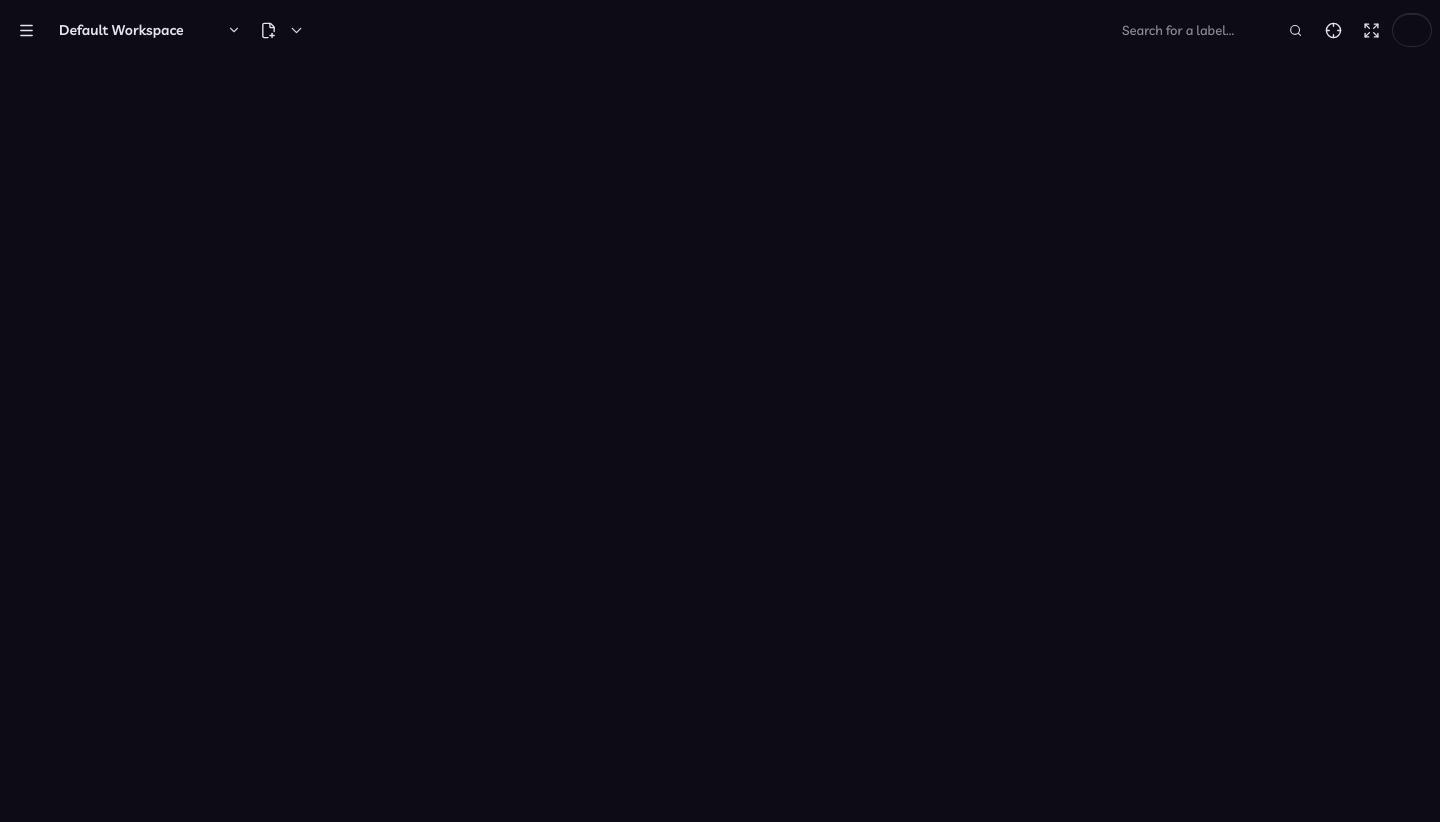
Test: TopBar › closes Add Card quick menu when clicking outside
Note: Open quick menu
Click the button named "add card".
click(283, 30)  # box [256,12,310,48]
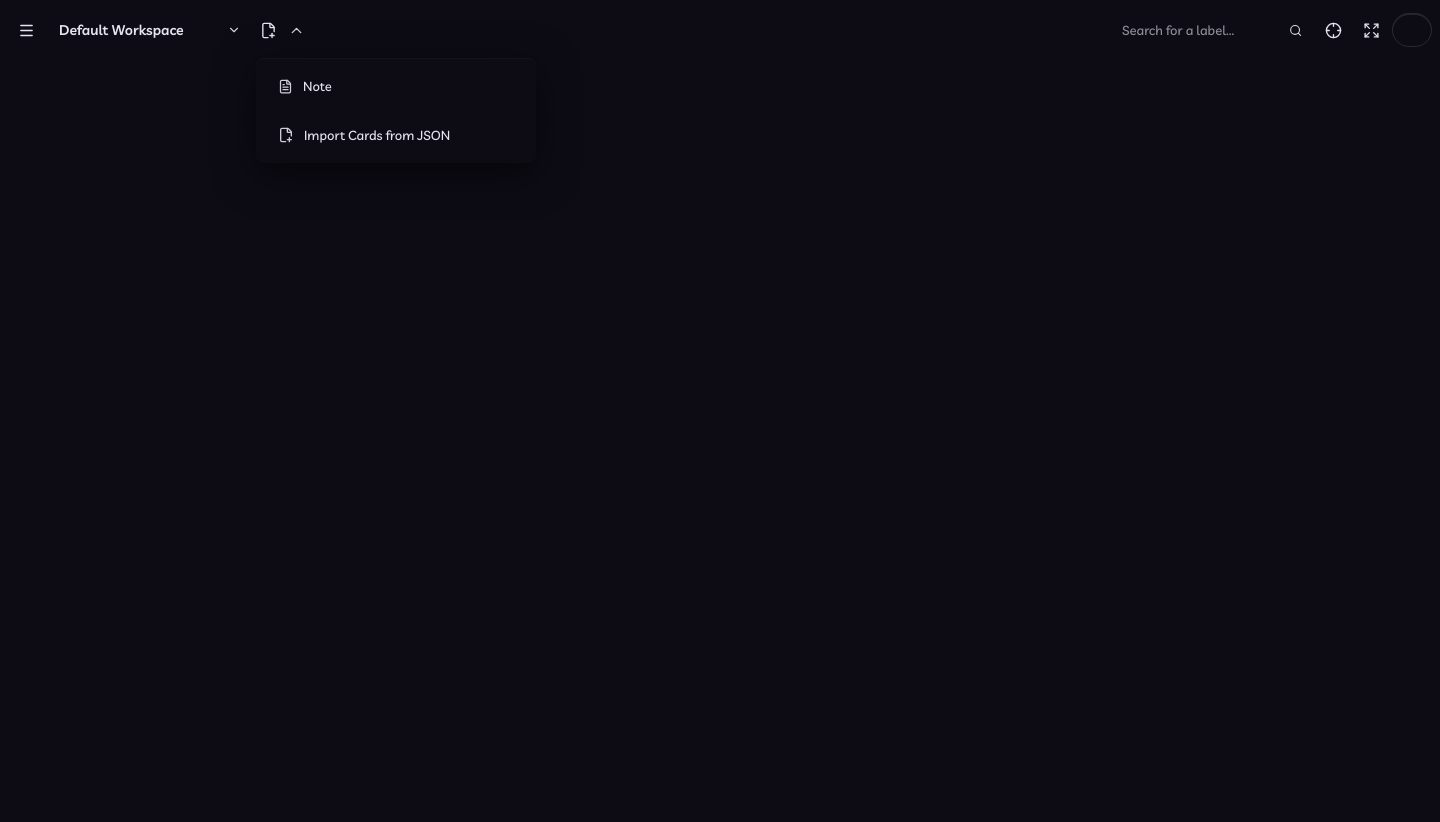
Expected: the menu named "add card menu" is shown, [256,58,536,163]
Note: Click outside on the document body
Press the mouse on the element showing "Default Workspace Note Import Cards from JSON" at point(720, 417), box [0,12,1439,821]
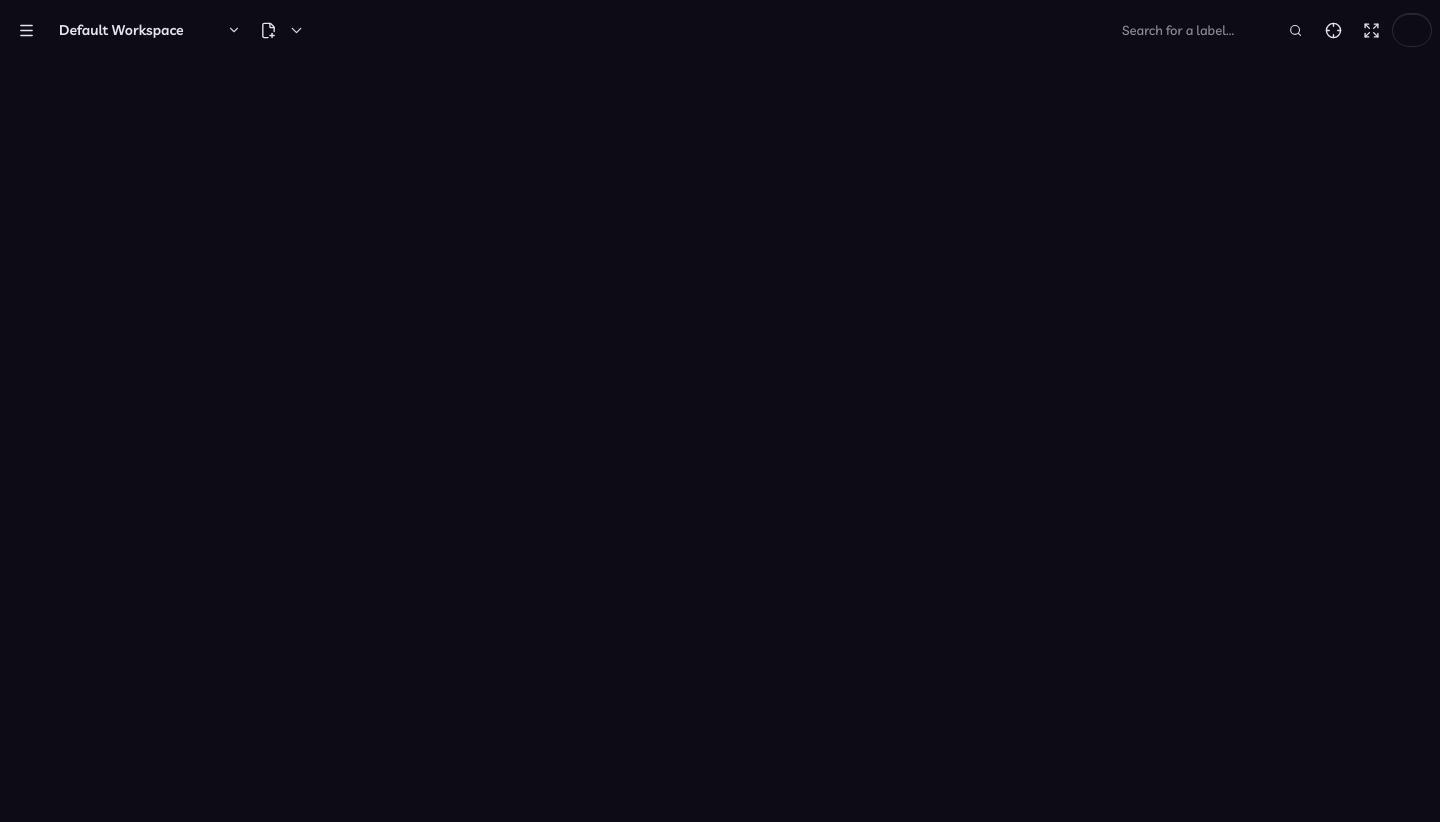
Expected: the menu "Note Import Cards from JSON" is gone
